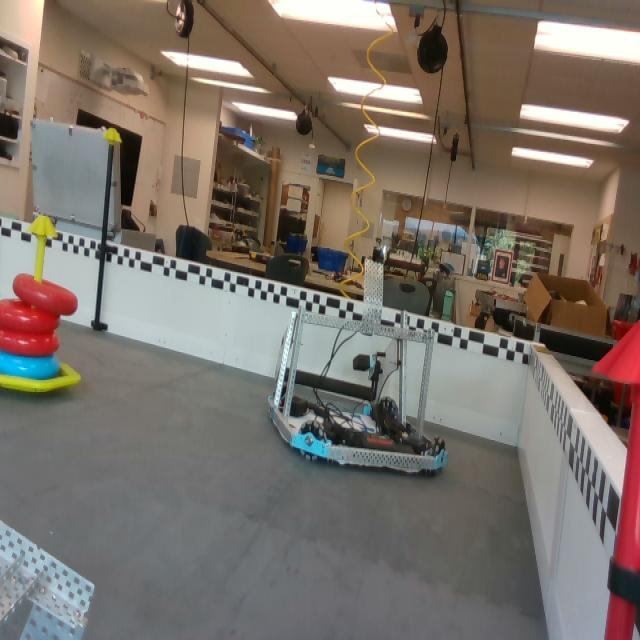Blue-Ring: (0, 353, 62, 375)
Mobile-Goal: (0, 363, 81, 393), (27, 216, 57, 284)
Red-Ring: (15, 275, 76, 310), (0, 299, 56, 330), (1, 329, 59, 356)
Yellow-Stake-Head: (29, 215, 58, 239), (102, 127, 123, 143)
zred-Stake-Head: (591, 319, 640, 383)
